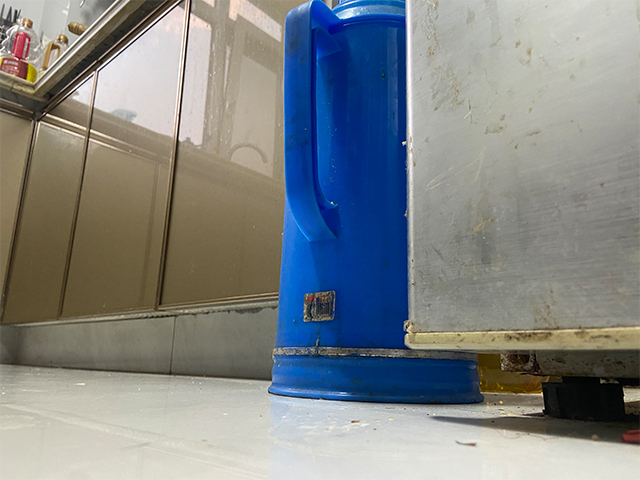cabinet: (1, 1, 296, 381)
